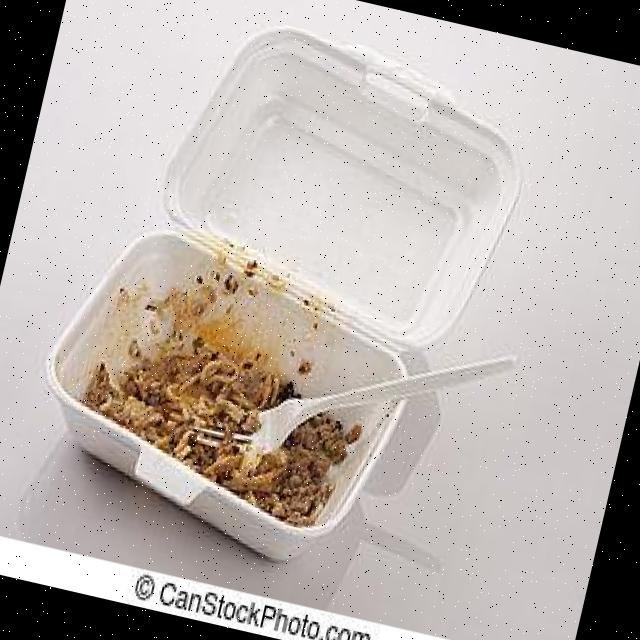styrofoam: (11, 0, 559, 599)
